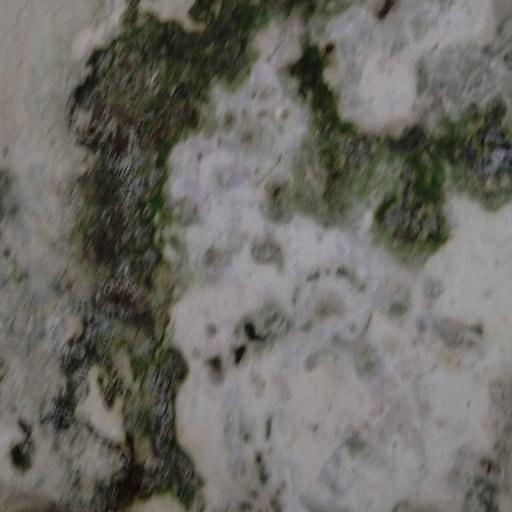algae: (38, 3, 496, 506)
